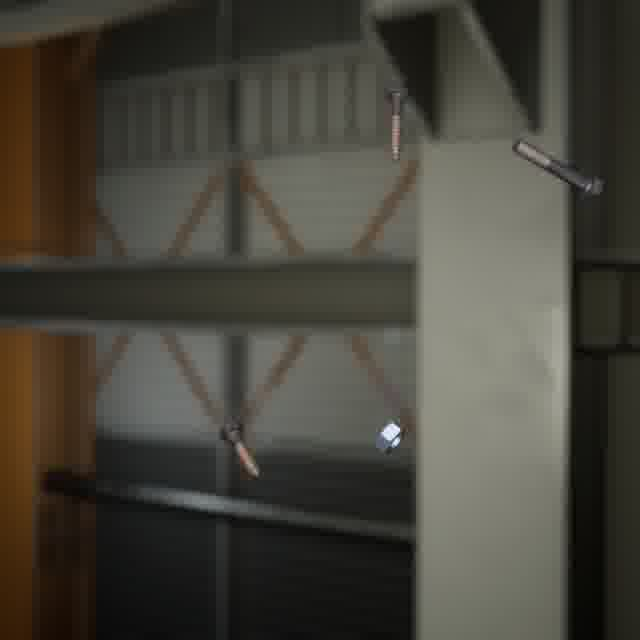bolt: (508, 135, 607, 206), (214, 415, 264, 480), (382, 80, 412, 165)
nut: (371, 417, 410, 457)
